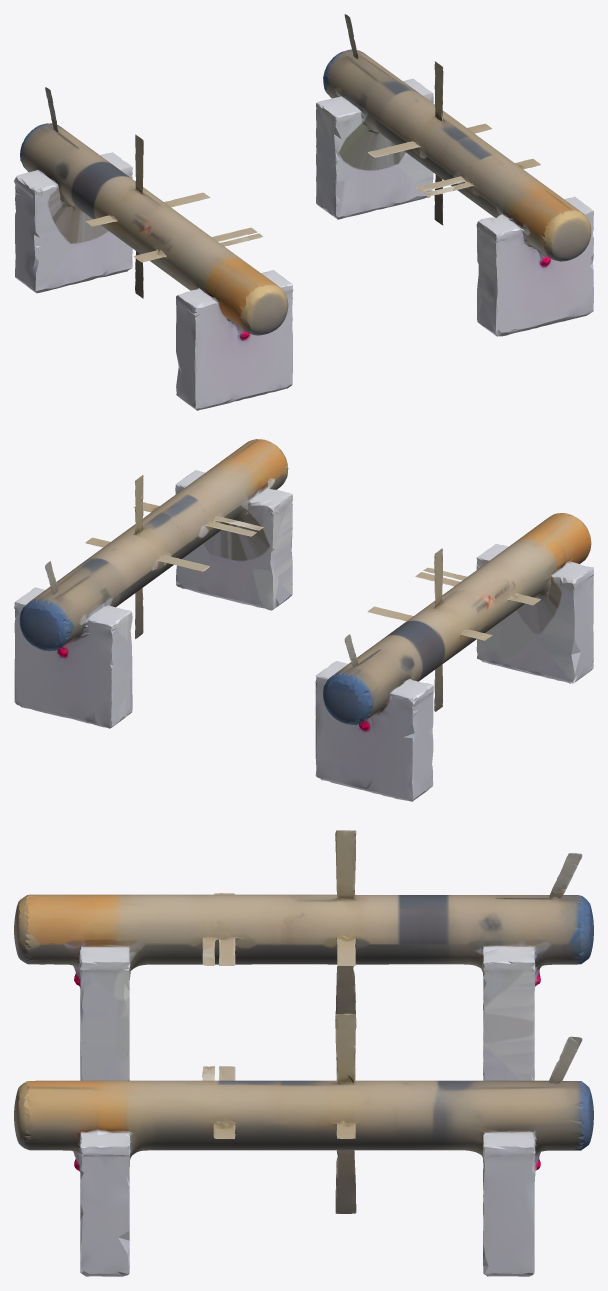
Rendered from HJ_12_Missile_AI_Rodin_before_crop_refresh.glb.
The picture shows the model from 3 angles, top to bottom: view 1: azimuth 30°, elevation 25°; view 2: azimuth 150°, elevation 25°; view 3: azimuth 270°, elevation 25°; orthographic projection. The views are drawn at different scales.
Visible parts, largest first — view 1: HJ_12_Missile; view 2: HJ_12_Missile; view 3: HJ_12_Missile.
Part boxes in pixels (x1,y1,x2,y2): HJ_12_Missile: [14, 14, 593, 410]; HJ_12_Missile: [14, 439, 593, 801]; HJ_12_Missile: [14, 830, 593, 1276].
Size of the model in its own units: 1.9 by 0.8463 by 1.9.
Materials: 1 (1 with a texture image).
